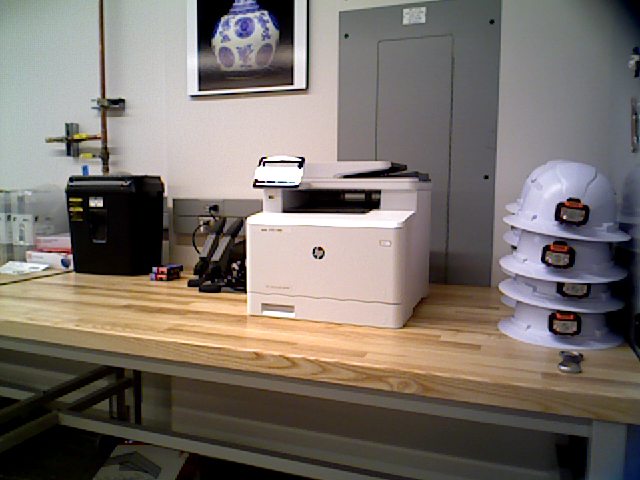painting2: (181, 1, 311, 98)
